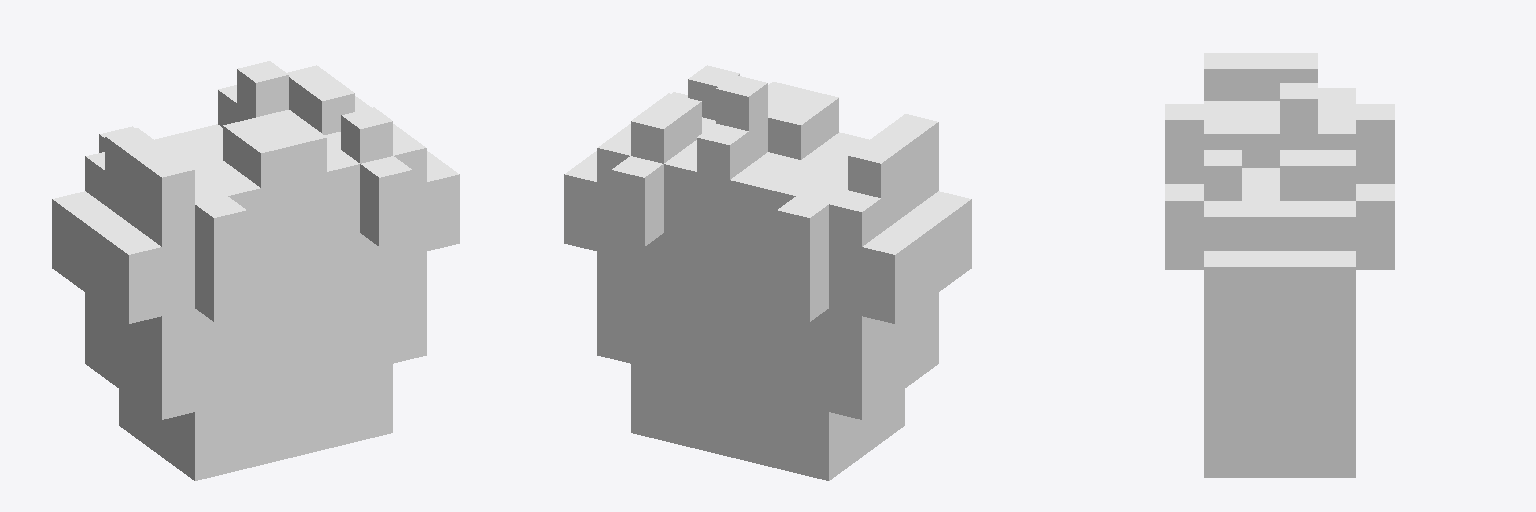
Rendered from Petite_plante.obj.
3 views of the same model, side by side, from view 1: azimuth 30°, elevation 25°; view 2: azimuth 150°, elevation 25°; view 3: azimuth 270°, elevation 25° (orthographic).
Visible parts, largest first — view 1: object 1; view 2: object 1; view 3: object 1.
Part boxes in pixels (x1,y1,x2,y2): object 1: (52,61,459,480); object 1: (564,65,971,480); object 1: (1165,53,1394,477).
Size of the model in its own units: 1 by 1 by 0.6.